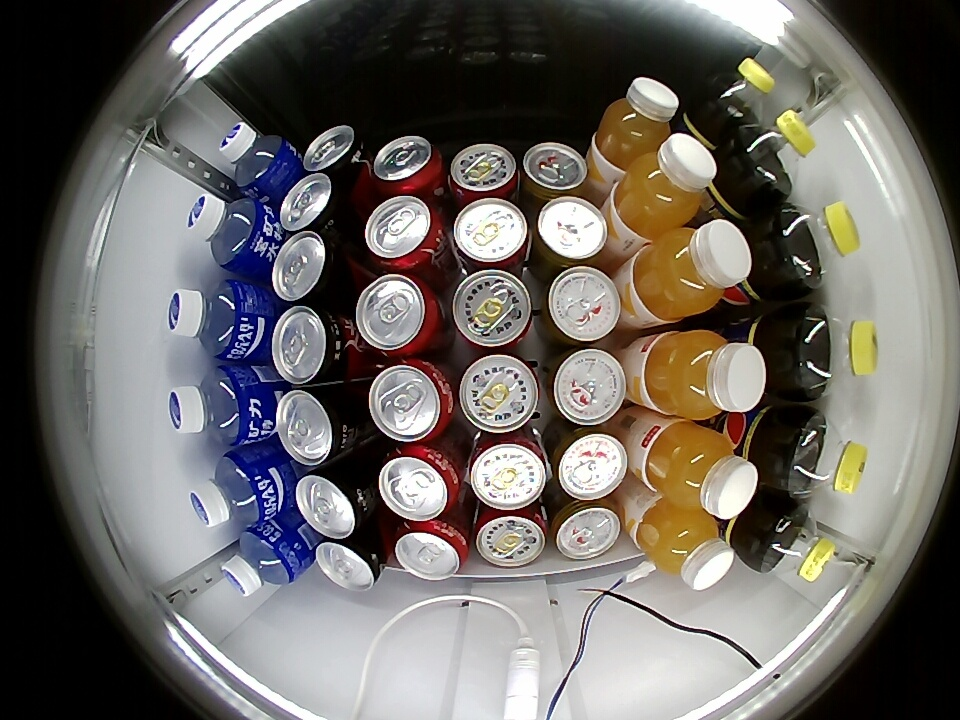baishikele: (796, 304, 879, 399), (775, 201, 861, 290), (783, 412, 869, 499), (735, 110, 816, 196), (753, 504, 838, 582), (698, 58, 776, 132)
baokuangli: (167, 278, 255, 361), (168, 363, 257, 445), (187, 191, 273, 272), (188, 450, 276, 528), (220, 523, 306, 597), (218, 122, 296, 197)
hongniu2: (538, 265, 622, 346), (544, 347, 628, 426), (548, 425, 628, 501), (532, 196, 608, 268), (550, 497, 623, 560), (520, 141, 591, 201)
kele: (354, 273, 441, 357), (368, 359, 453, 443), (378, 444, 460, 521), (364, 196, 444, 271), (394, 520, 469, 582), (372, 135, 443, 193)
lingdukele: (276, 388, 356, 465), (272, 306, 350, 384), (294, 465, 374, 539), (271, 231, 350, 304), (277, 173, 351, 235), (315, 530, 387, 591), (302, 125, 367, 183)
wangzainiunai: (466, 428, 549, 510), (458, 353, 540, 434), (451, 269, 534, 349), (450, 198, 530, 276), (473, 501, 548, 568), (447, 143, 520, 205)
weic: (632, 220, 752, 323), (642, 418, 758, 519), (612, 134, 718, 237), (643, 330, 766, 418), (635, 496, 735, 590), (594, 77, 681, 170)
